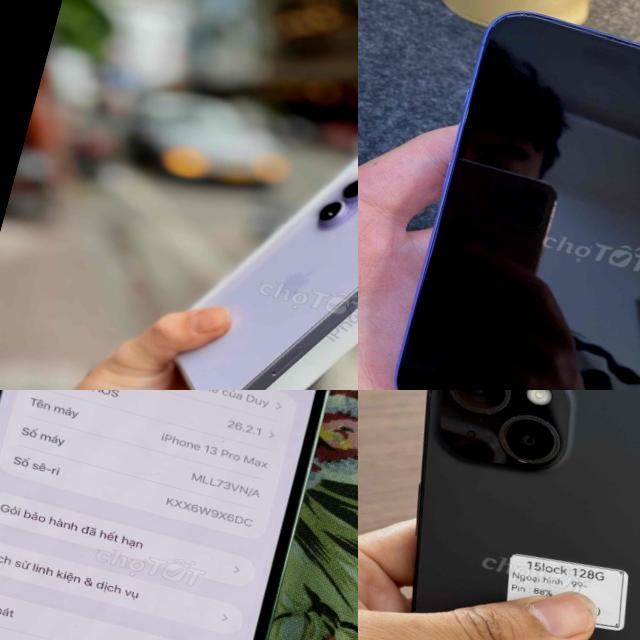gen_12_13: (0, 390, 345, 640)
gen_15: (358, 390, 640, 640)
gen_16: (393, 12, 640, 390)
gen_17: (151, 126, 358, 390)
